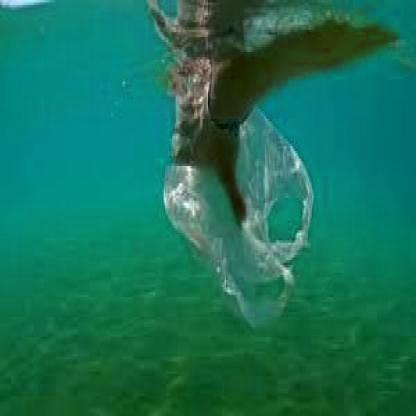pbag: (161, 84, 316, 332)
